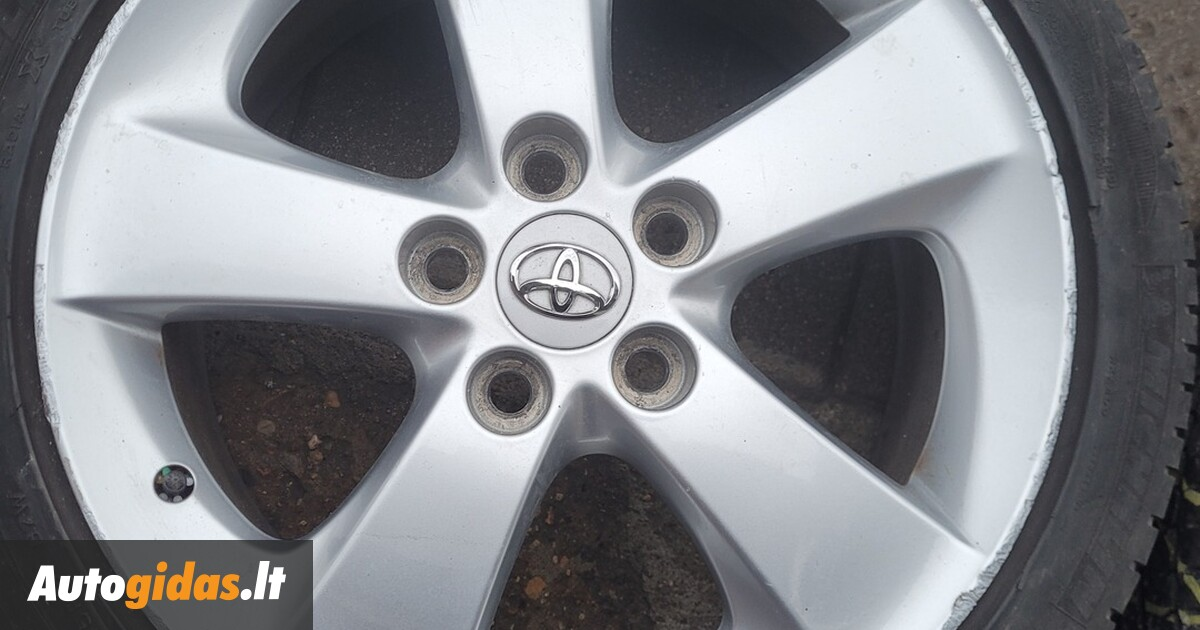m: (497, 99, 600, 210), (394, 212, 486, 308), (632, 176, 720, 271), (610, 319, 698, 406), (469, 341, 547, 434)
